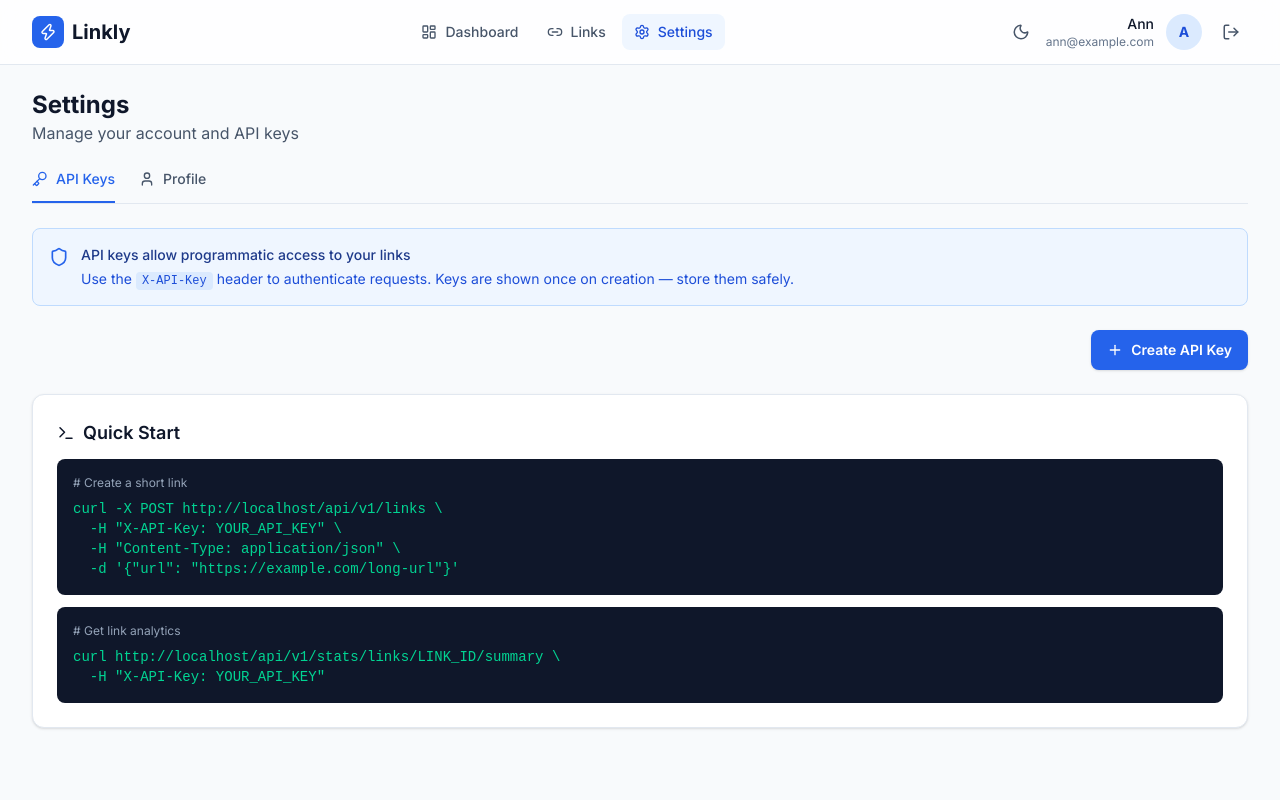
Test: Settings › refuses to change the password when the confirmation differs
Click the button "Profile" at {"x": 173, "y": 186}, box [139,169,206,203]
(page scrolled)
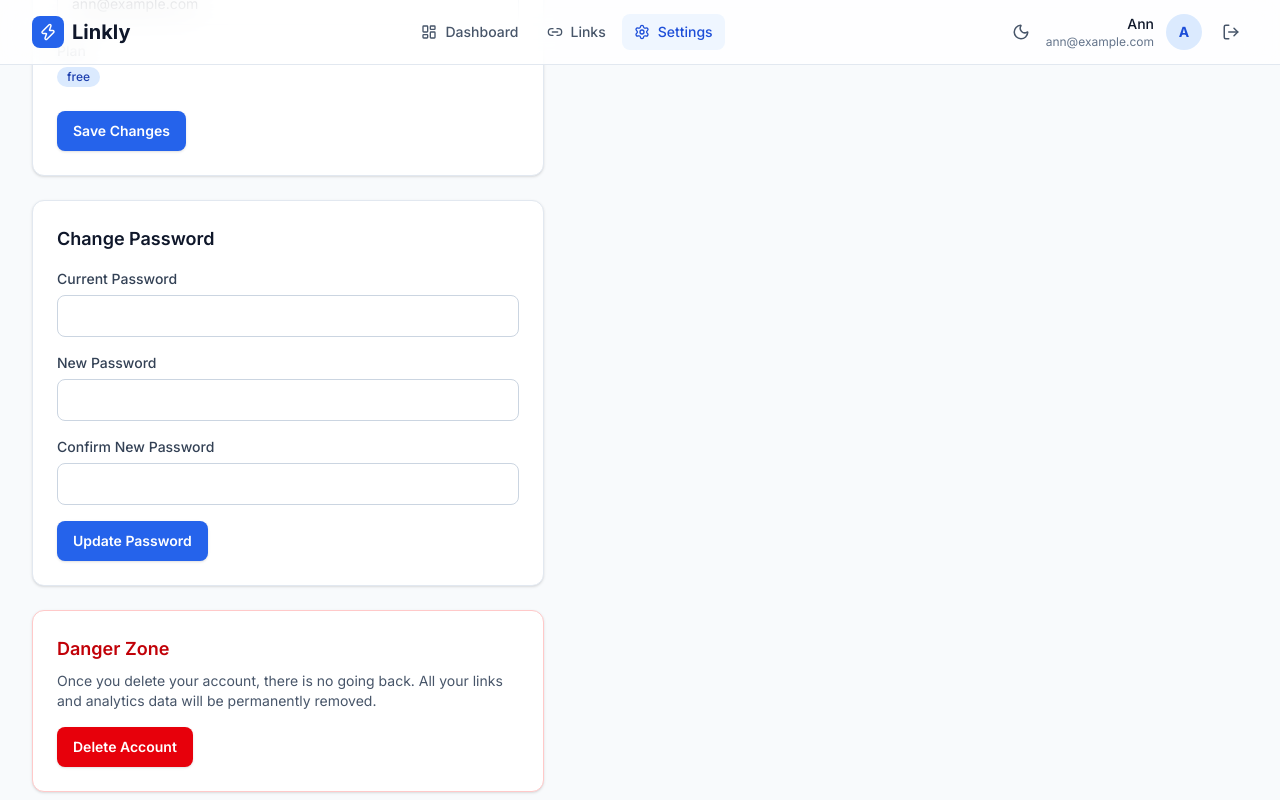
Type "secret123" into the 2nd password field at {"x": 288, "y": 400}, box [57,379,519,421]
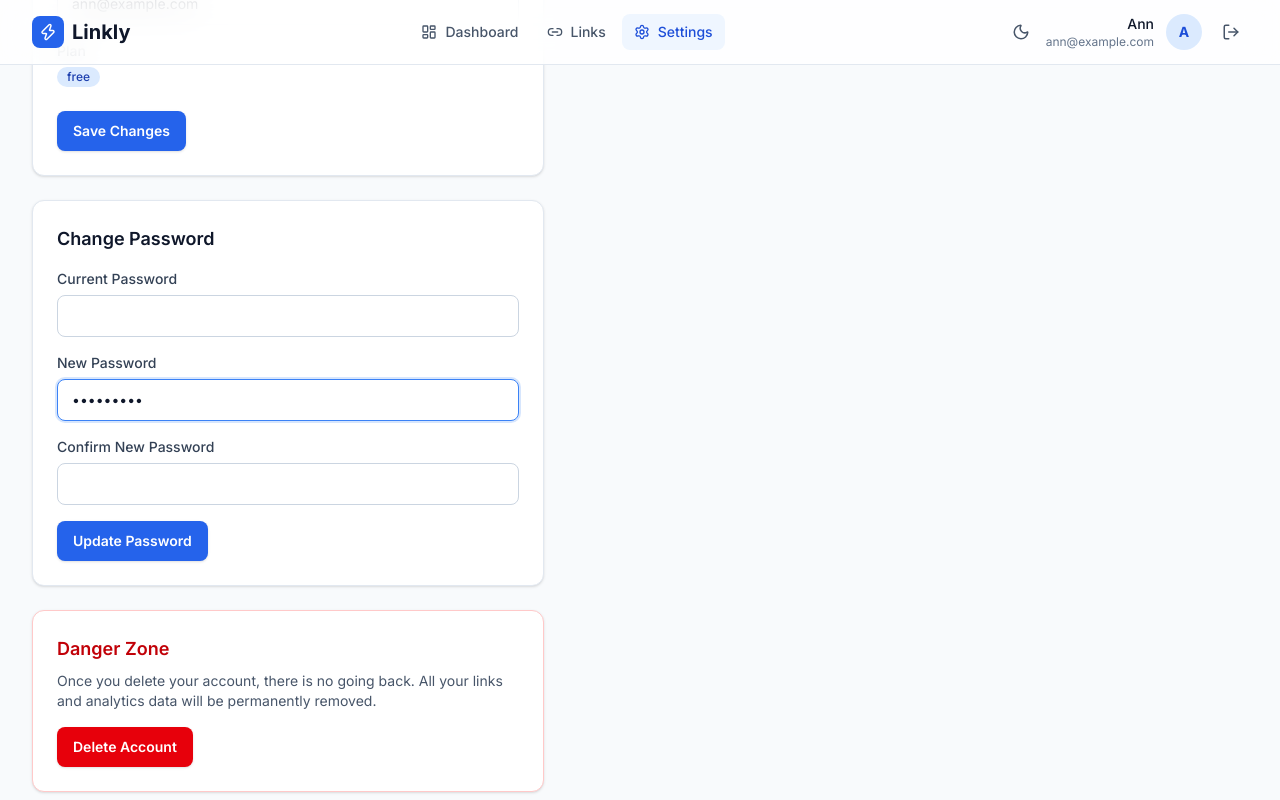
Type "secret124" into the password field below "Confirm New Password" at {"x": 288, "y": 484}, box [57,463,519,505]
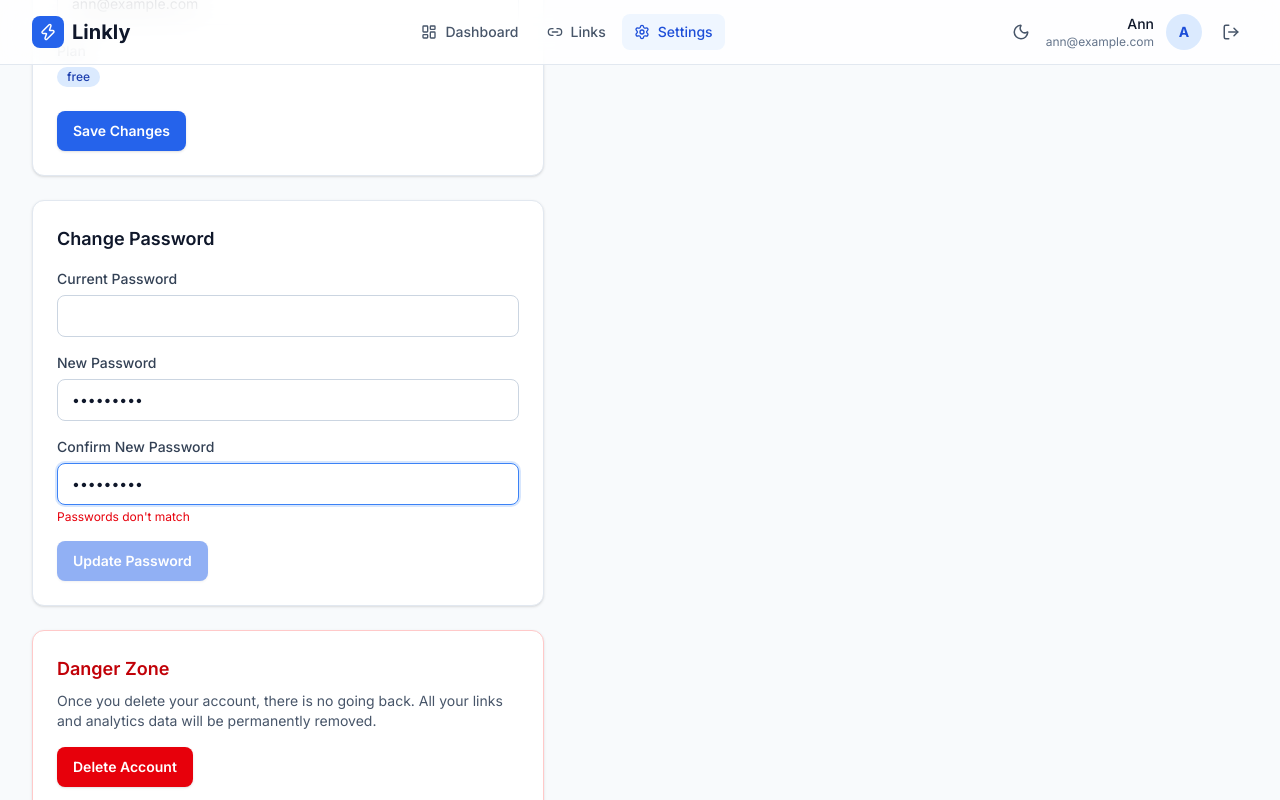
expect the text "Passwords don't match" is shown: met, box [57,509,190,524]
expect the button "Update Password" is disabled: met, box [57,541,208,581]
